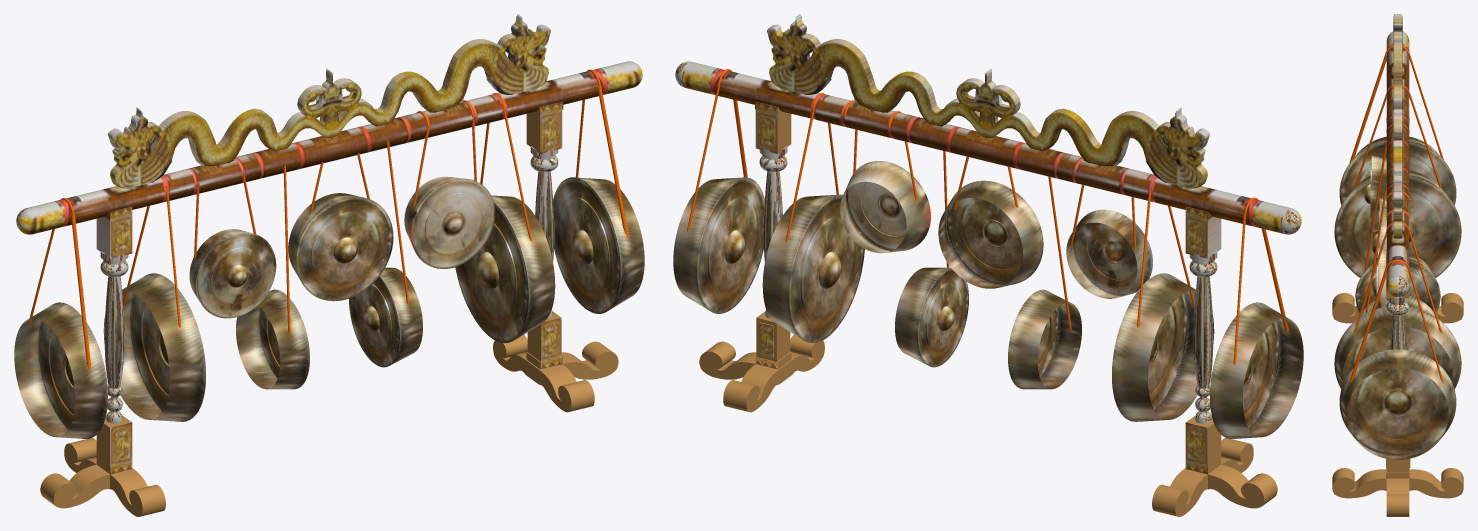
The model's file is gong_kempul.glb.
The picture shows the model from 3 angles, left to right: view 1: azimuth 30°, elevation 25°; view 2: azimuth 150°, elevation 25°; view 3: azimuth 270°, elevation 25°; orthographic projection. The views are drawn at different scales.
Visible parts, largest first — view 1: Object_12, Object_13, Object_108, Object_16, Object_15, Object_3, Object_17, Object_18, Object_14; view 2: Object_12, Object_13, Object_108, Object_16, Object_15, Object_3, Object_17, Object_18; view 3: Object_12, Object_108, Object_3, Object_13, Object_15, Object_18, Object_16.
Part boxes in pixels (<box>): Object_12: <box>14,48,644,438</box>; Object_13: <box>96,101,593,474</box>; Object_108: <box>40,107,618,516</box>; Object_16: <box>108,69,332,188</box>; Object_15: <box>326,14,550,137</box>; Object_3: <box>28,69,628,370</box>; Object_17: <box>100,251,128,423</box>; Object_18: <box>530,146,558,318</box>; Object_14: <box>64,237,379,388</box>; Object_12: <box>673,48,1303,438</box>; Object_13: <box>724,101,1221,474</box>; Object_108: <box>699,107,1277,516</box>; Object_16: <box>985,69,1209,188</box>; Object_15: <box>767,14,991,137</box>; Object_3: <box>687,69,1288,364</box>; Object_17: <box>1189,251,1217,423</box>; Object_18: <box>759,146,787,318</box>; Object_12: <box>1334,31,1461,459</box>; Object_108: <box>1332,260,1463,516</box>; Object_3: <box>1347,46,1447,386</box>; Object_13: <box>1361,155,1434,467</box>; Object_15: <box>1393,99,1402,238</box>; Object_18: <box>1386,292,1409,349</box>; Object_16: <box>1393,14,1402,108</box>.
Size of the model in its own units: 2.53 by 1.46 by 0.5525.
3 materials, 1 textured.
